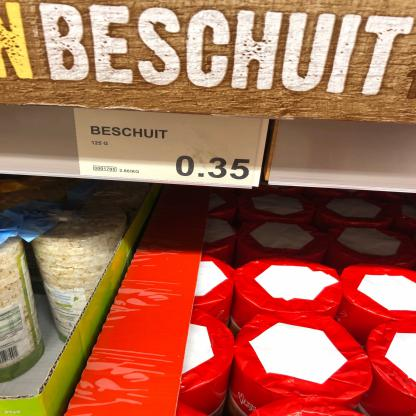prtg: (75, 108, 270, 190)
